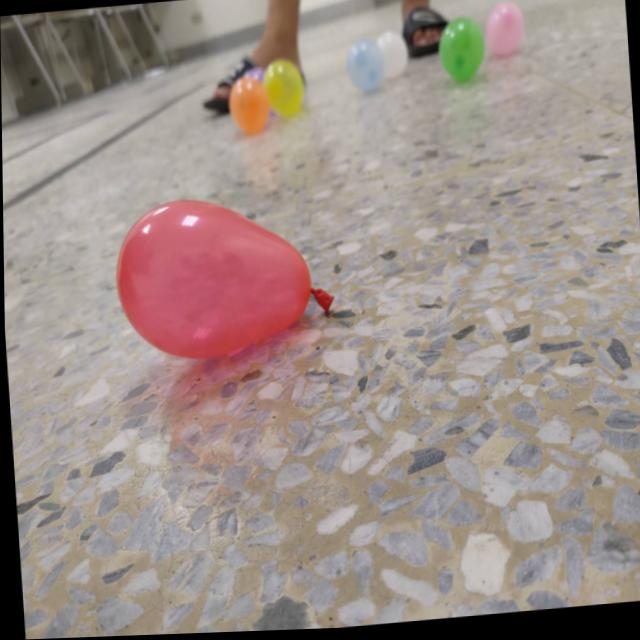other: (439, 19, 488, 85), (264, 59, 305, 121), (228, 78, 268, 138), (346, 41, 386, 96), (484, 5, 524, 59), (377, 33, 409, 81)
red: (109, 188, 338, 368)
